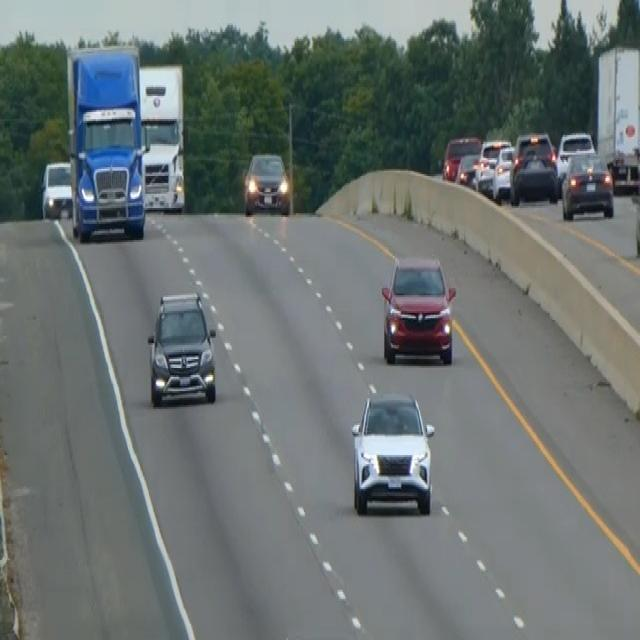car: (380, 252, 456, 364), (560, 150, 614, 220), (243, 149, 290, 215), (510, 146, 559, 204), (473, 137, 511, 197), (555, 130, 595, 187), (39, 158, 73, 219), (441, 134, 481, 182), (491, 144, 516, 201), (455, 151, 479, 189)
jeep: (349, 388, 436, 518), (146, 290, 217, 407)
lorry: (65, 41, 148, 242)
